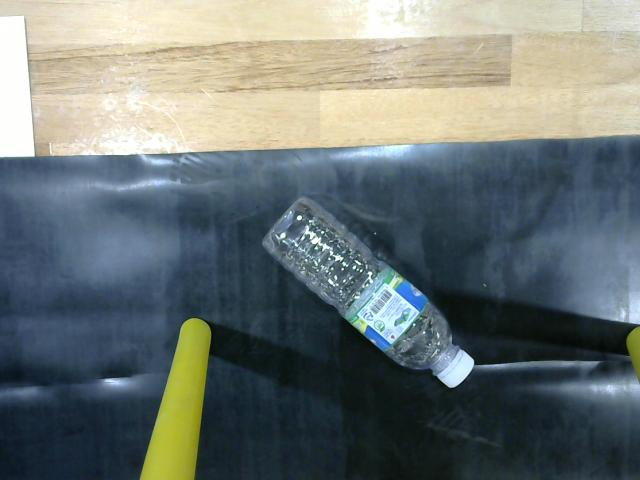bottle: (243, 185, 491, 401)
